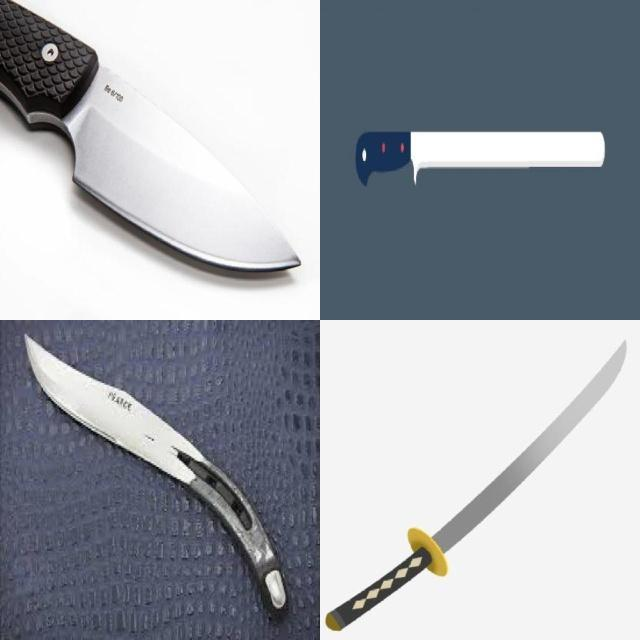-: (46, 58, 311, 312), (405, 34, 610, 272), (2, 320, 204, 533), (430, 329, 628, 545), (38, 124, 49, 136), (418, 370, 423, 376)
